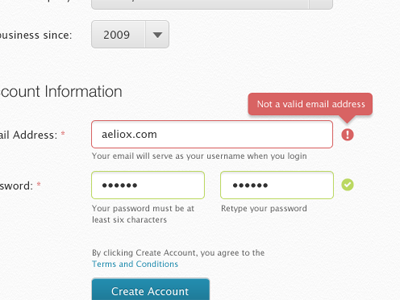error_field: (90, 119, 333, 149)
error_message: (255, 98, 368, 110)
